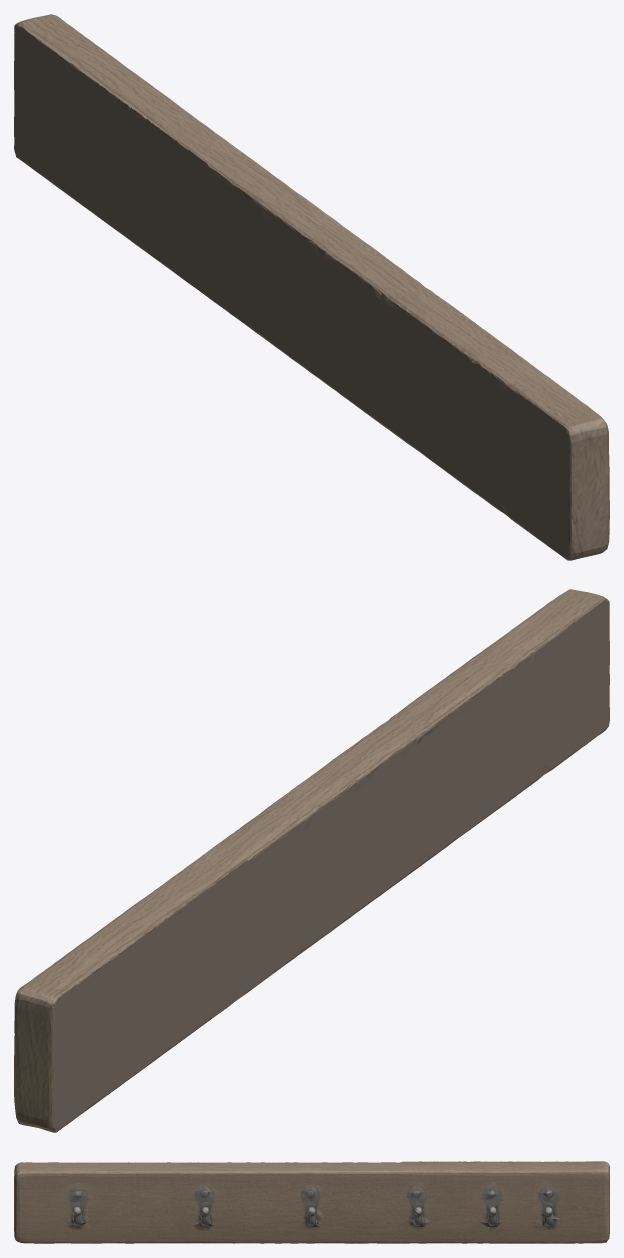
File: Hook.fbx
The picture shows the model from 3 angles, top to bottom: view 1: azimuth 30°, elevation 25°; view 2: azimuth 150°, elevation 25°; view 3: azimuth 270°, elevation 25°; orthographic projection. The views are drawn at different scales.
Parts seen in each view (by area): view 1: Hook_Low; view 2: Hook_Low; view 3: Hook_Low.
Part boxes in pixels (x1,y1,x2,y2): Hook_Low: (14,14,609,560); Hook_Low: (14,589,609,1132); Hook_Low: (14,1161,609,1243).
Bounding box in the file's own units: 0.0702 × 0.1343 × 0.9907.
